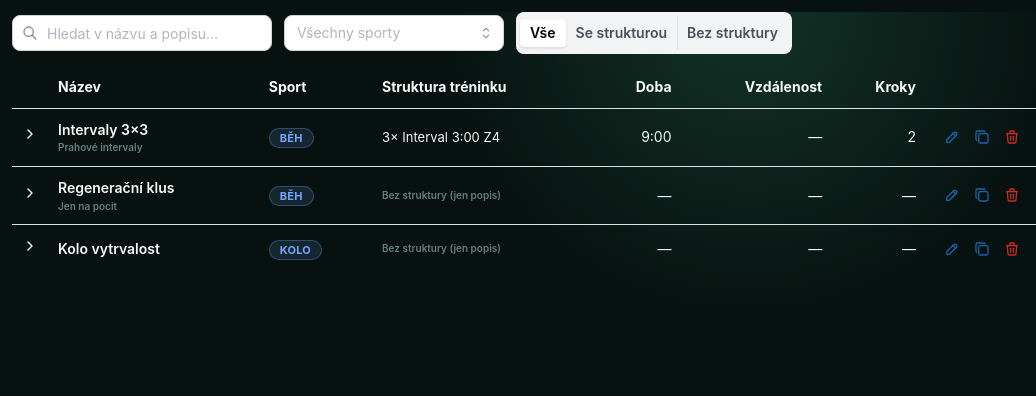
Scenario: TemplatesTable › expands a row into the full step list with notes
Expected: the text "Držet rovnoměrně" is not shown
Step 1. Click the text "Intervaly 3×3" → (103, 129), box top-left (58, 121), bottom-right (148, 138)
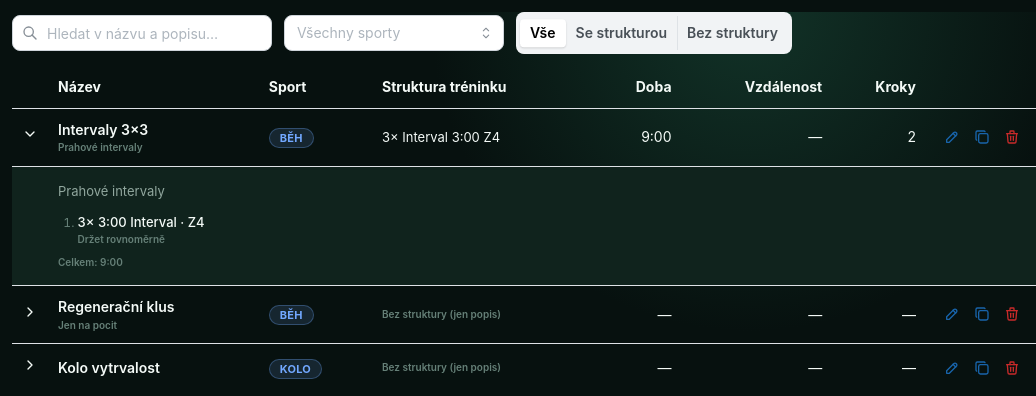
Expected: the text "Držet rovnoměrně" is shown, top-left (78, 233), bottom-right (165, 245)
